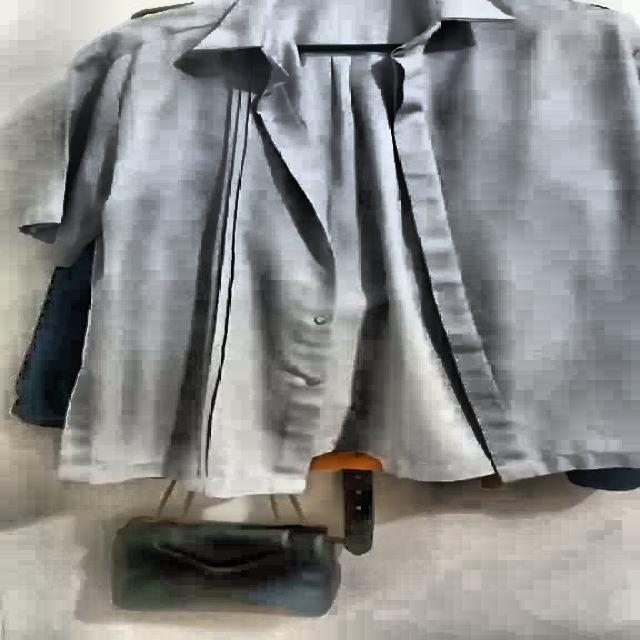clothes: (22, 0, 640, 495)
